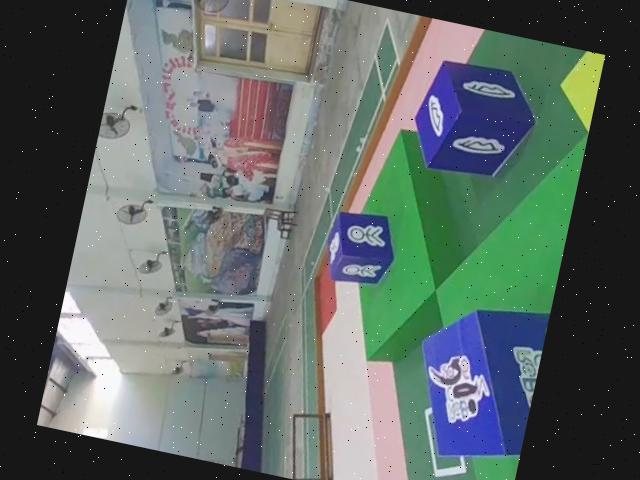R1 Blue: (400, 289, 550, 473)
R2 Real Blue: (405, 56, 547, 193), (317, 207, 402, 296)
